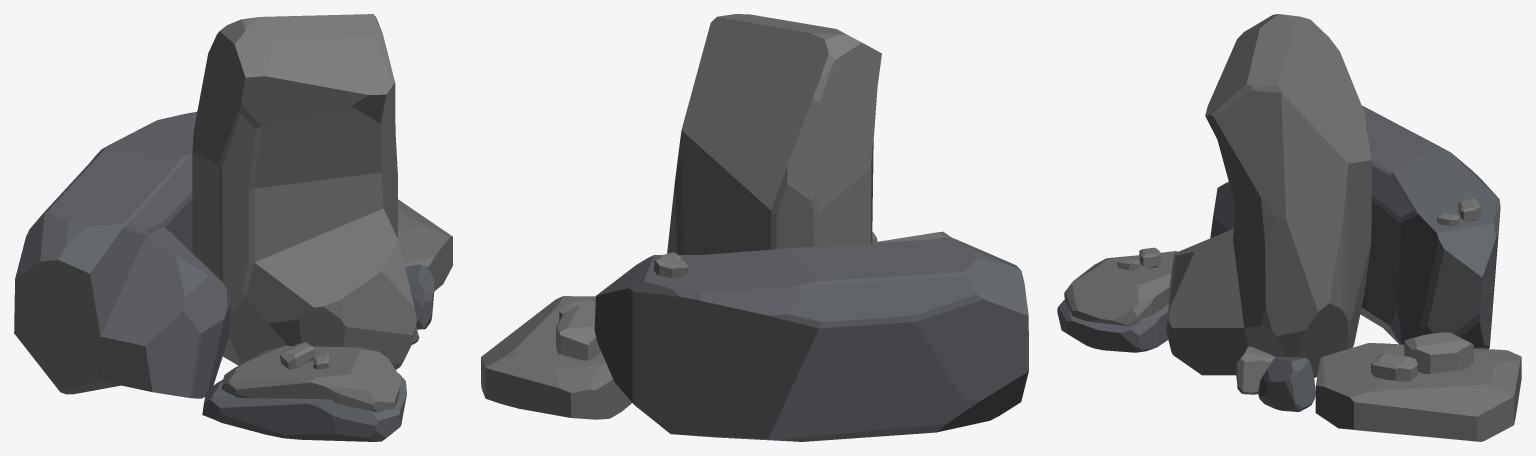
File: rocks_04.glb
3 views of the same model, side by side, from view 1: azimuth 30°, elevation 25°; view 2: azimuth 150°, elevation 25°; view 3: azimuth 270°, elevation 25° (orthographic). The views are drawn at different scales.
Visible parts, largest first — view 1: rocks_04; view 2: rocks_04; view 3: rocks_04.
Part boxes in pixels (bbox=[...]): rocks_04: bbox=[14, 14, 452, 441]; rocks_04: bbox=[481, 14, 1028, 441]; rocks_04: bbox=[1057, 14, 1521, 441].
Size of the model in its own units: 4.26 by 3.02 by 3.96.
1 material, 1 textured.
